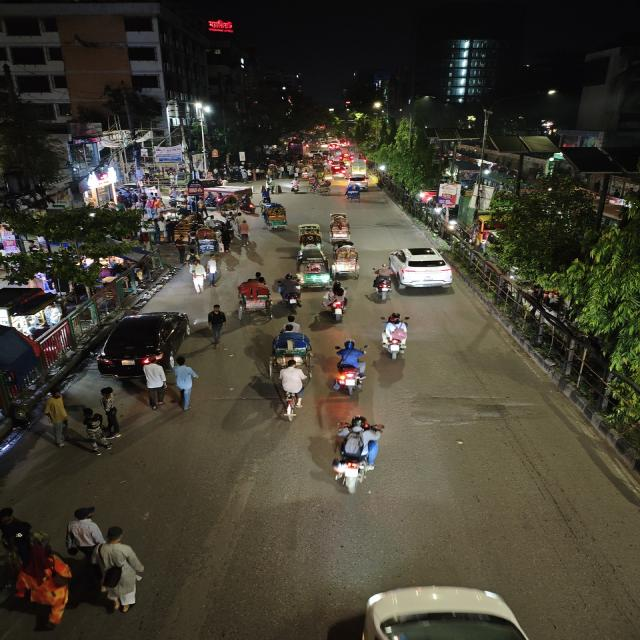bicycle: (269, 360, 309, 424)
car: (93, 308, 193, 376), (384, 244, 456, 292), (347, 173, 369, 187)
cng: (269, 324, 316, 366), (296, 249, 330, 289)
motorcycle: (328, 413, 391, 499), (268, 360, 309, 424), (330, 339, 371, 397), (378, 312, 415, 362), (322, 281, 351, 323), (372, 266, 396, 304), (278, 273, 303, 309), (285, 178, 303, 195)
pedestrian: (92, 525, 154, 617), (62, 504, 104, 564), (78, 406, 121, 456), (40, 388, 72, 446), (172, 355, 201, 409), (138, 360, 169, 410), (204, 303, 228, 347), (202, 252, 226, 287), (185, 257, 208, 293), (97, 386, 122, 412), (218, 221, 237, 253), (172, 235, 192, 263), (236, 219, 255, 248), (260, 184, 272, 204)
rickshaw: (234, 274, 275, 323), (269, 323, 315, 366), (331, 240, 360, 280), (259, 201, 290, 231), (192, 224, 220, 254), (328, 212, 352, 240), (298, 224, 323, 248), (314, 177, 334, 197), (341, 184, 364, 201)
